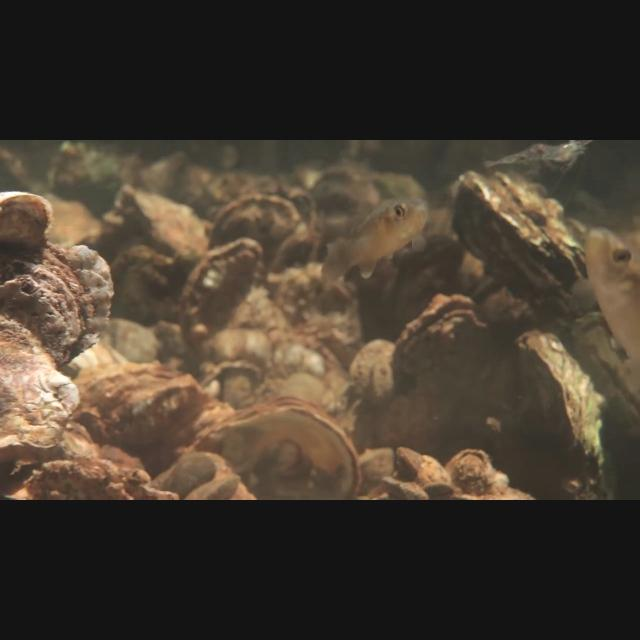Oyster-Closed: (450, 170, 632, 427), (177, 394, 362, 498), (512, 329, 613, 493), (0, 240, 115, 371), (0, 317, 82, 463), (97, 376, 215, 446), (0, 191, 54, 259), (395, 447, 452, 496), (162, 452, 219, 500)
Oyster-Open: (369, 285, 494, 451), (182, 236, 263, 344), (446, 449, 497, 496)
